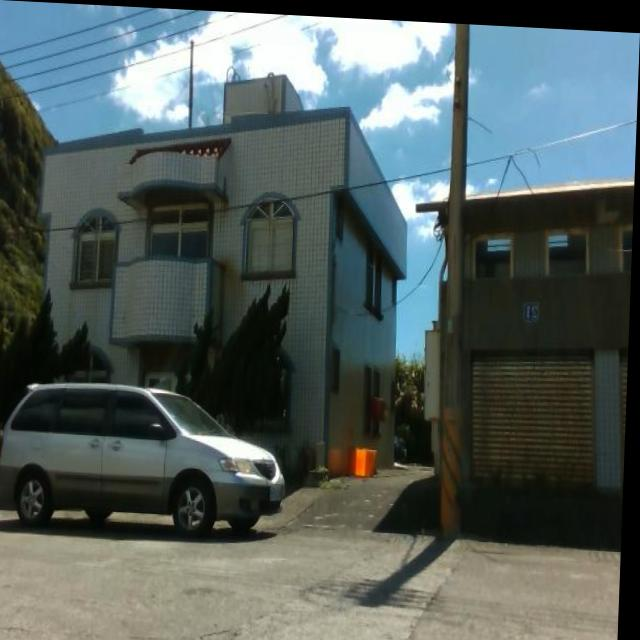pollute: (350, 442, 385, 477)
